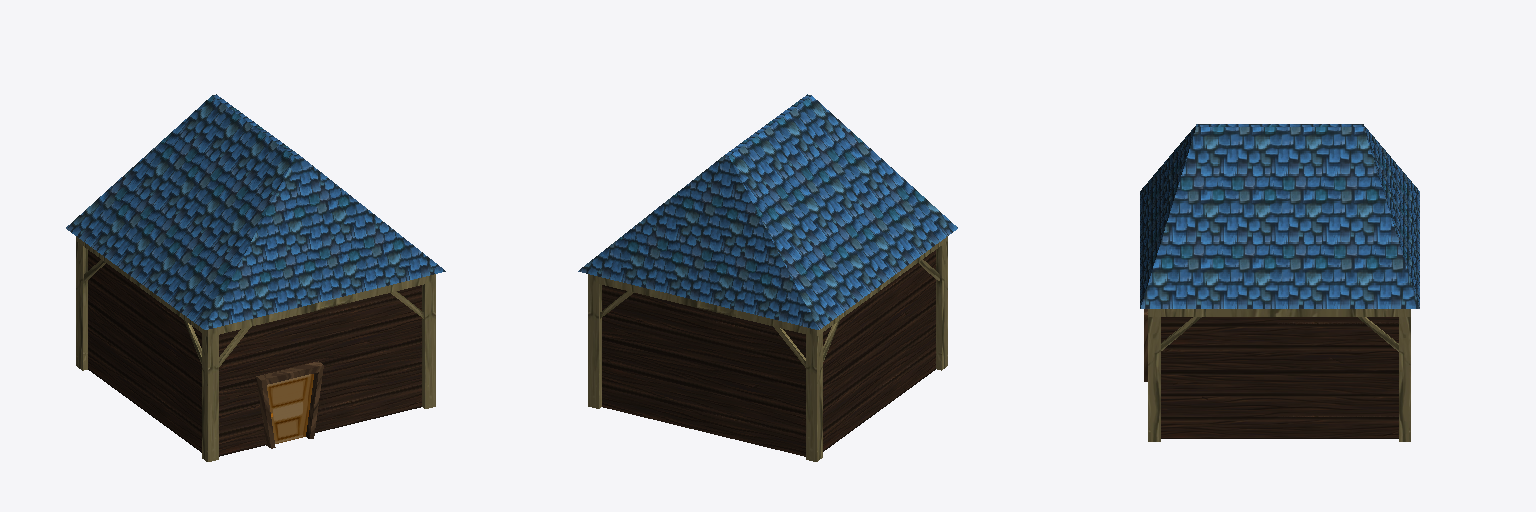
3 renders of one model, left to right at view 1: azimuth 30°, elevation 25°; view 2: azimuth 150°, elevation 25°; view 3: azimuth 270°, elevation 25°, orthographic.
Parts seen in each view (by area): view 1: Cube.002_Cube.003; view 2: Cube.002_Cube.003; view 3: Cube.002_Cube.003.
Boxes of the visible parts, x1=… form: Cube.002_Cube.003: x1=66, y1=94, x2=445, y2=461; Cube.002_Cube.003: x1=578, y1=94, x2=957, y2=461; Cube.002_Cube.003: x1=1140, y1=124, x2=1419, y2=441.
Size of the model in its own units: 2.22 by 2.29 by 2.22.
Materials: 1 (1 with a texture image).